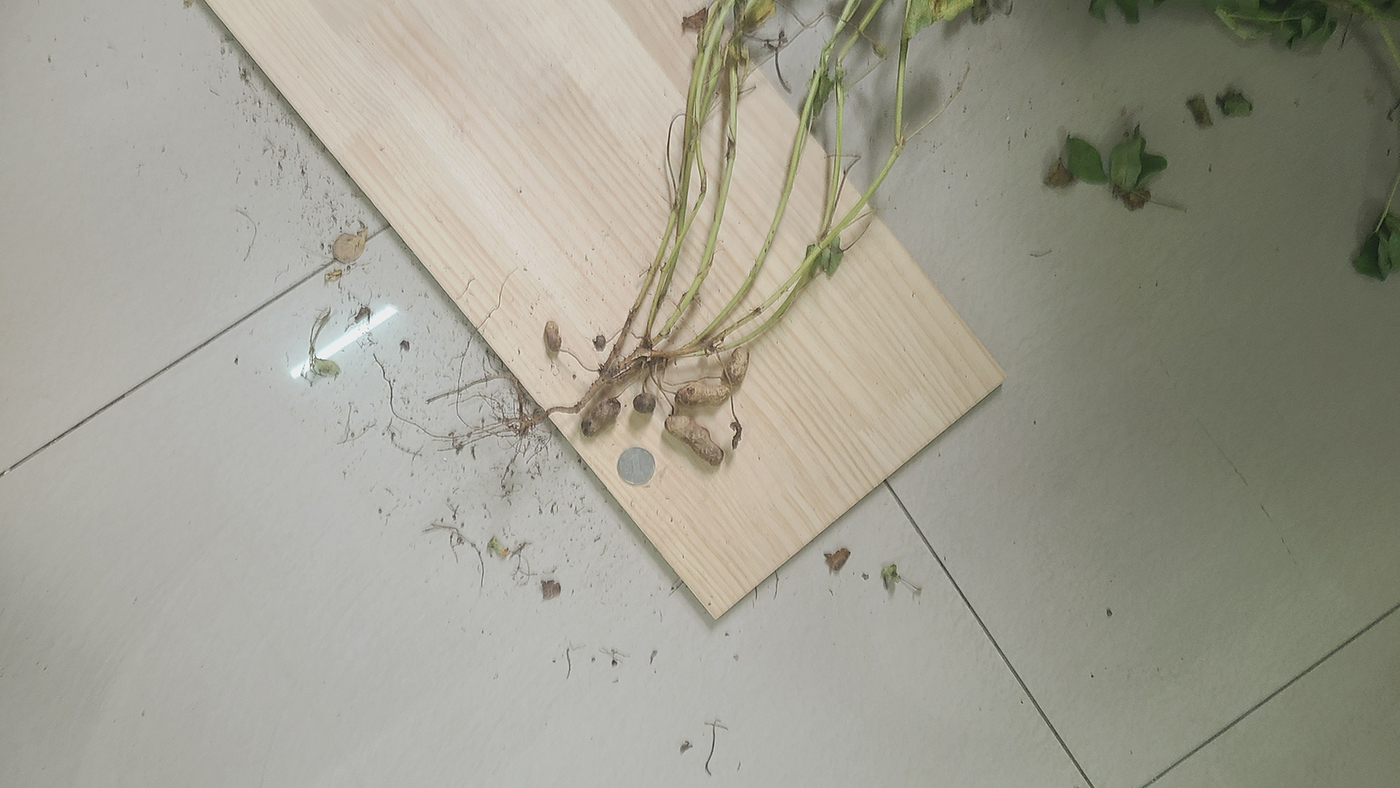h: (724, 346, 750, 384)
l: (665, 413, 725, 467), (674, 374, 732, 406), (580, 397, 621, 437), (545, 320, 562, 353), (632, 392, 657, 414), (729, 421, 742, 451), (593, 334, 607, 347)
